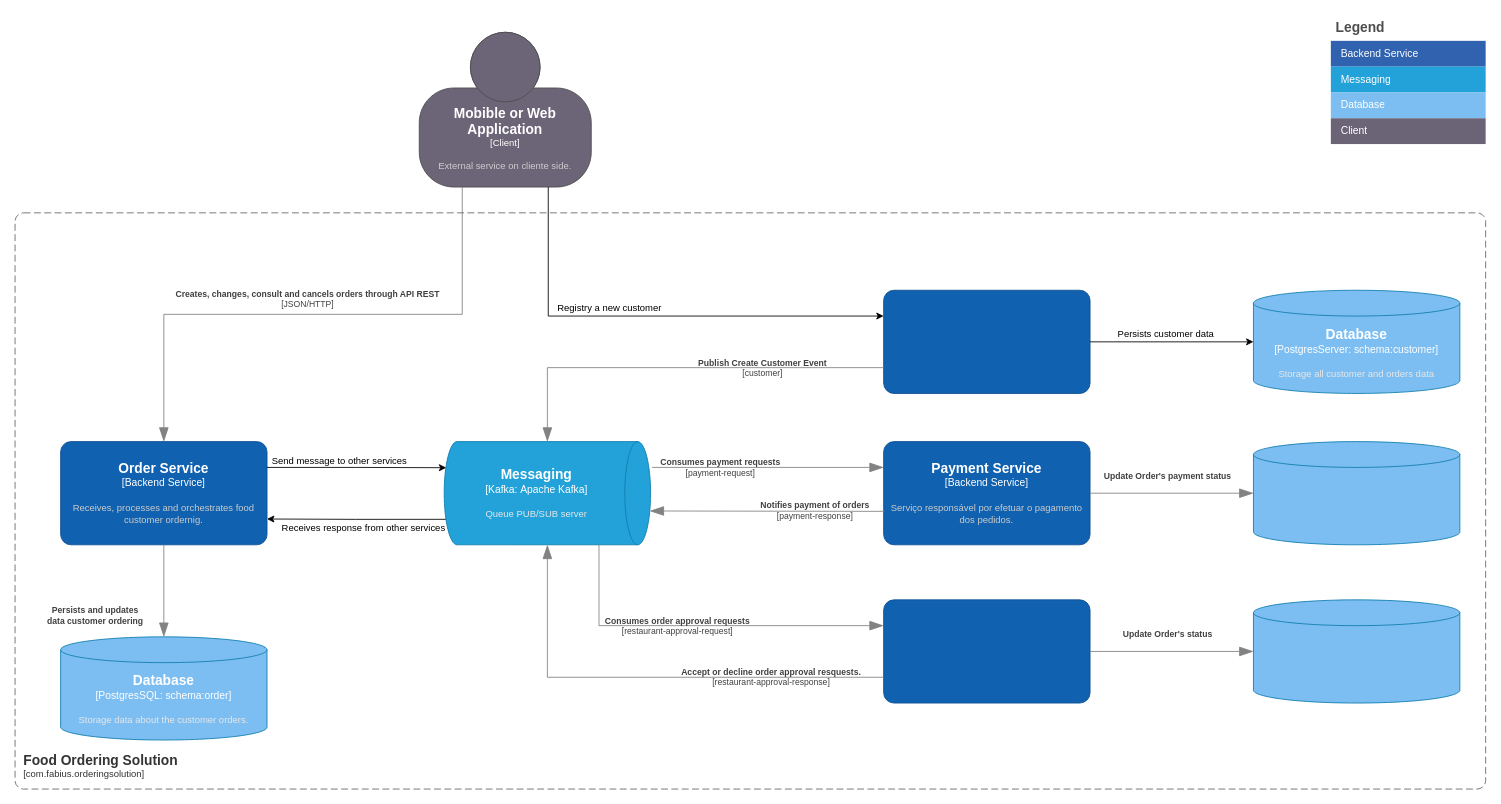
The diagram is 1501 pixels wide and 804 high, and some of its shapes have lost their labels. The shapes that lost their labels are listed below. From the top down, each one's centre as x and y in pixels, then its label:
the point at 986,341: Customer Service [Backend Service] Materialized view CQRS & Messaging
the point at 1356,493: Database [PostgresSQL: Postgres] Manager the customer payments
the point at 986,651: Restaurant Service [Backend Service] Approval customer's order.
the point at 1356,651: Database [PostgresServer: schema:restaurant] Manager the customer orders
